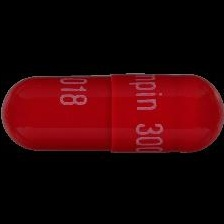53808-0559: (0, 0, 224, 224)
